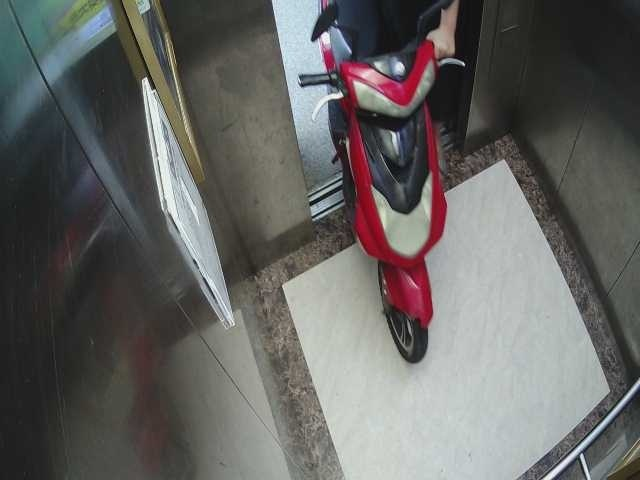emotor: (299, 6, 460, 371)
